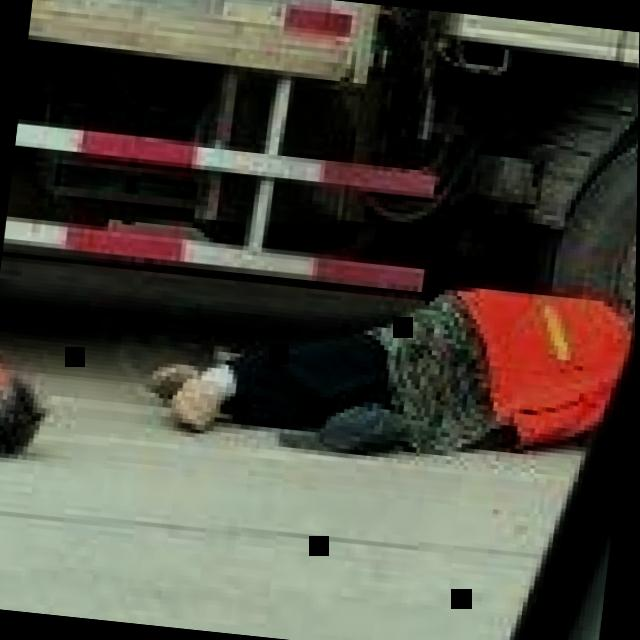Fall-Detected: (151, 220, 632, 480)
